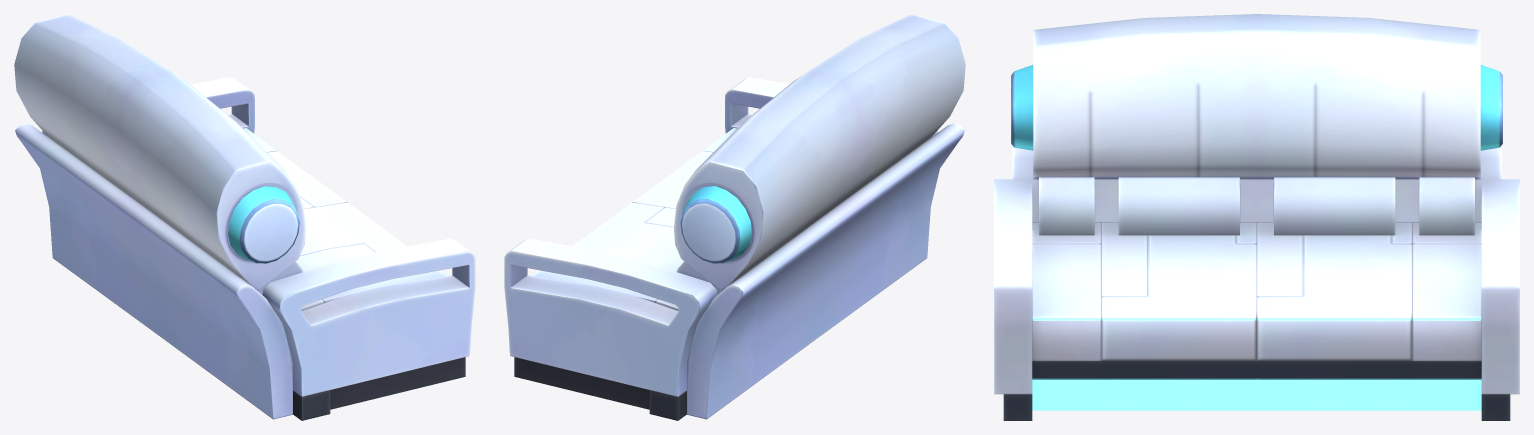
Rendered from obj_sofa.gltf.
The picture shows the model from 3 angles, left to right: view 1: azimuth 30°, elevation 25°; view 2: azimuth 150°, elevation 25°; view 3: azimuth 270°, elevation 25°; orthographic projection. The views are drawn at different scales.
Visible parts, largest first — view 1: obj_sofa; view 2: obj_sofa; view 3: obj_sofa.
Part boxes in pixels (<box>): obj_sofa: <box>14,14,475,420</box>; obj_sofa: <box>504,14,965,420</box>; obj_sofa: <box>994,14,1519,420</box>.
Size of what is drawn, in the model's own units: 1.32 by 1.38 by 2.25.
1 material, 1 textured.
